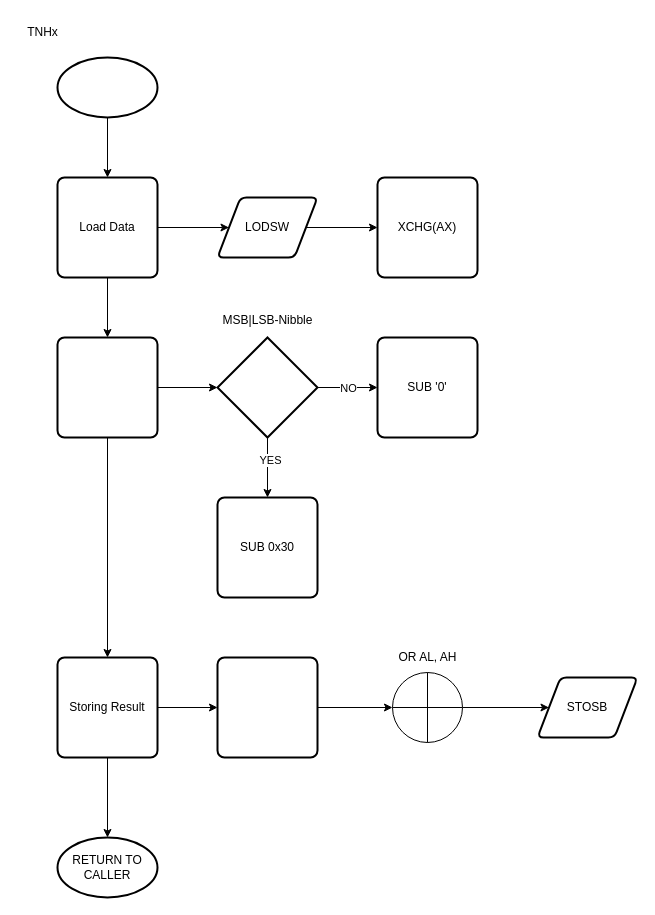
Some shapes in this 655 by 915 pixel diagram are drawn without their labels. Each missing label, with the centre of its shape:
"ASCII[2]" belongs at pixel 107 87.
"Conversion" belongs at pixel 107 387.
"IS ≥ 'A'" belongs at pixel 267 387.
"ROL(AX) [4]" belongs at pixel 267 707.
